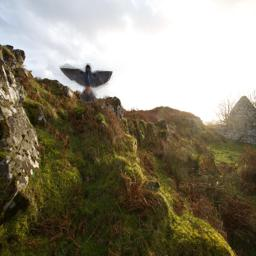Swallow: (58, 63, 113, 103)
